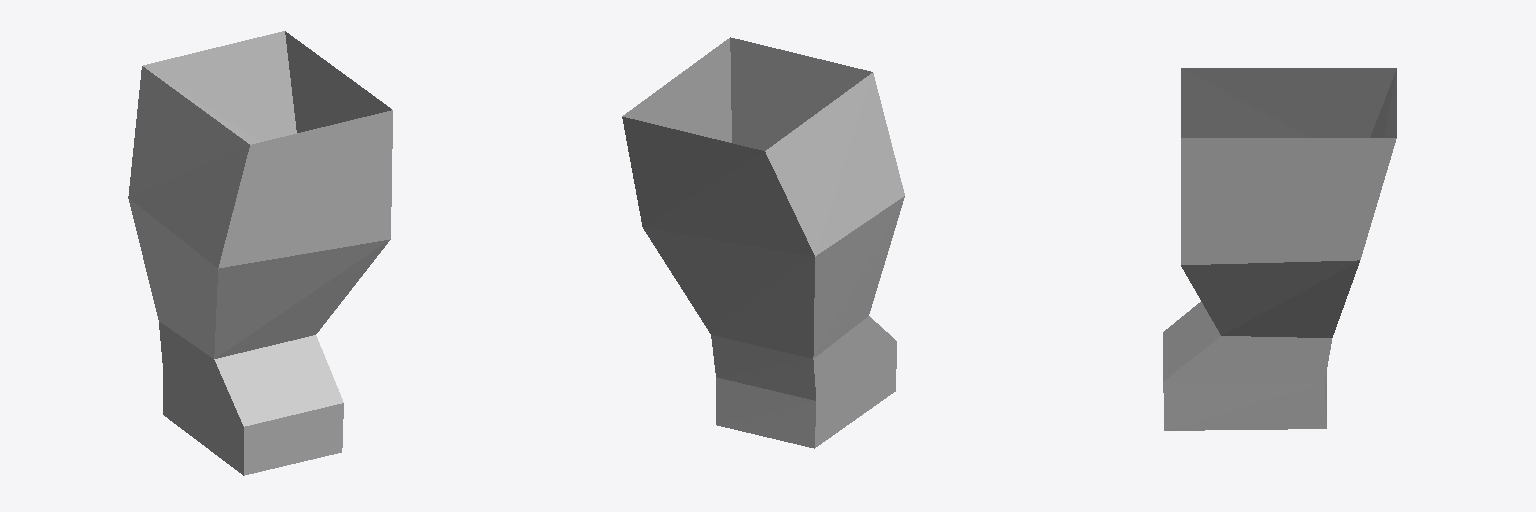
The model's file is r_leg.obj.
3 views of the same model, side by side, from view 1: azimuth 30°, elevation 25°; view 2: azimuth 150°, elevation 25°; view 3: azimuth 270°, elevation 25° (orthographic).
Parts seen in each view (by area): view 1: r_leg; view 2: r_leg; view 3: r_leg.
Boxes of the visible parts, x1,y1,x2,y2 form: r_leg: [128, 31, 392, 475]; r_leg: [622, 37, 904, 448]; r_leg: [1163, 68, 1396, 430].
Bounding box in the file's own units: 0.1914 × 0.3367 × 0.2218.